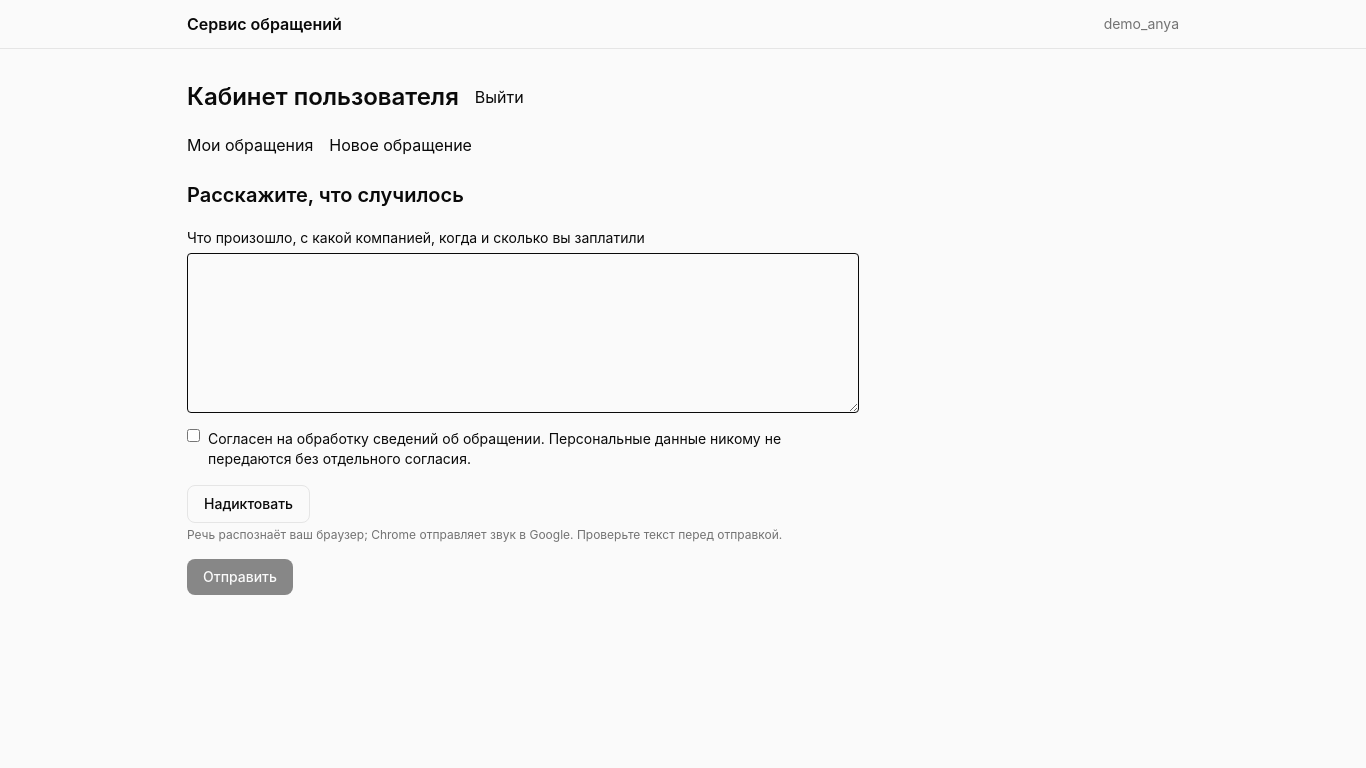
Test: A7 voice input › appends recognised Russian speech to the text and warns about the vendor
Step 1. Type "Курс не вернули." into the text box labelled "Что произошло" → {"x": 523, "y": 333}, box [187,253,859,413]
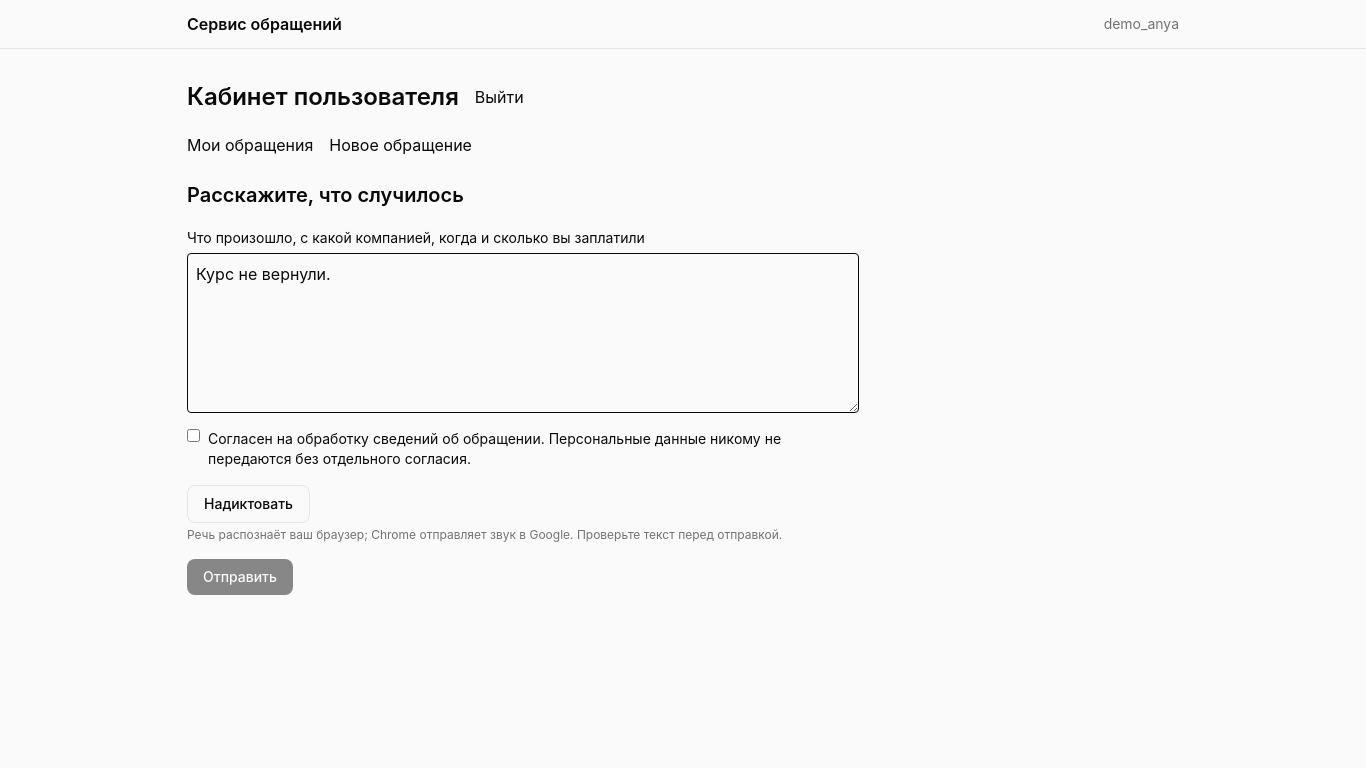
Expected: the text "Chrome отправляет звук в Google" is shown, [187,527,782,542]
Step 2. Click the button "Надиктовать" → {"x": 249, "y": 504}, box [187,485,310,523]
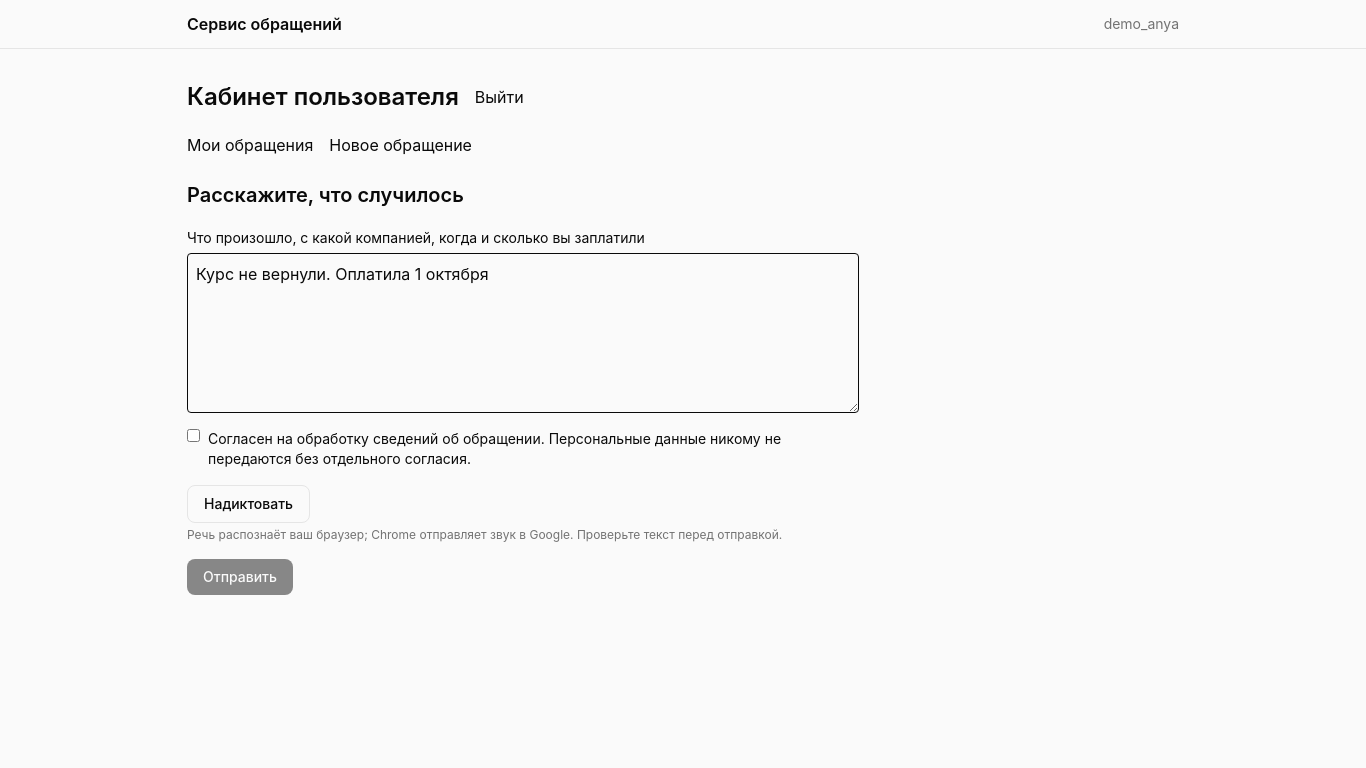
Expected: the text box labelled "Что произошло" holds "Курс не вернули. Оплатила 1 октября", [187,253,859,413]
